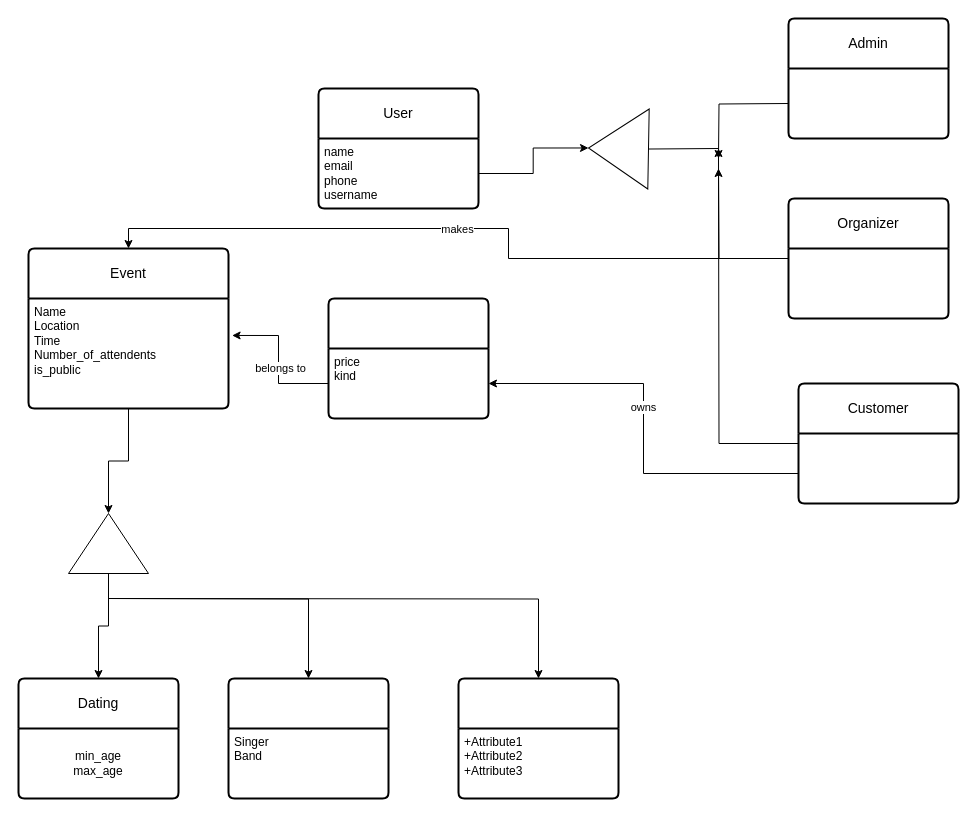
This 976x816 diagram has some shape labels left out. The shapes that lost their labels are listed below. From the top down, each one's box as (x1, y1, x2, y2) in pixels, then its label:
(327, 297, 489, 419): Ticket
(227, 677, 389, 799): Music
(457, 677, 619, 799): Networking
